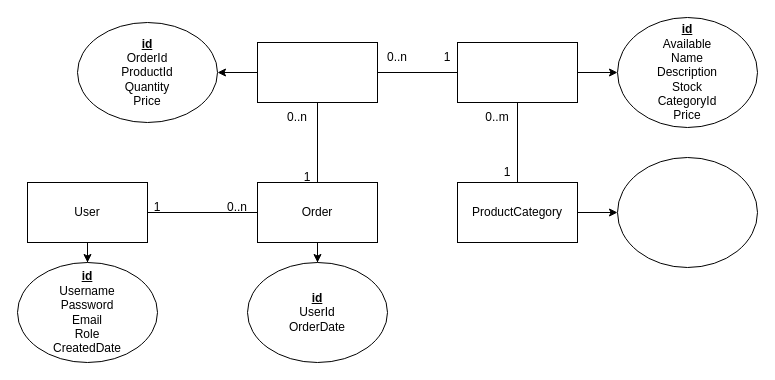
The diagram is 775 pixels wide and 380 high, and some of its shapes have lost their labels. Here are the shapes that lost their labels. From the top down, the centre of each, then its label:
point (317, 72): OrderDetail
point (517, 72): Producto
point (687, 212): id Icon Name Description
